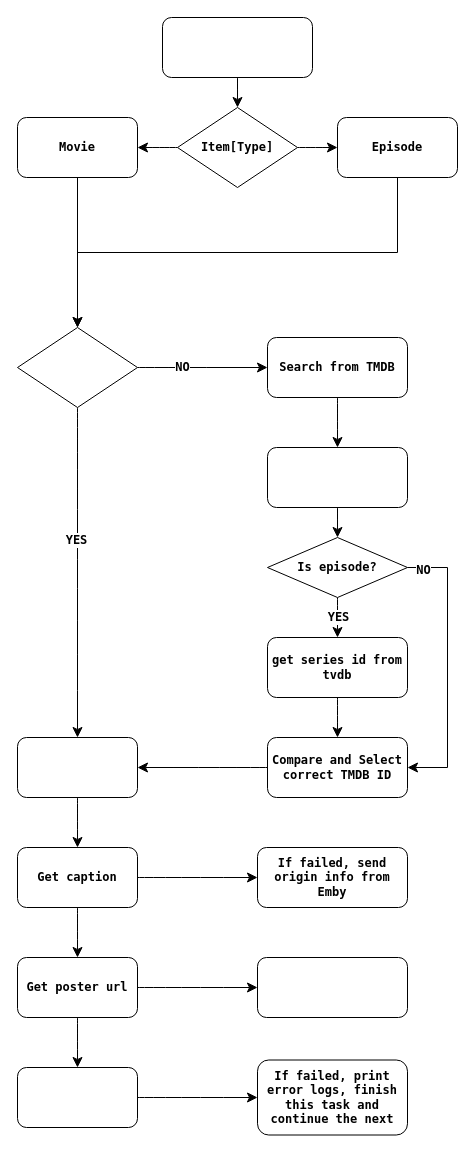
The diagram is 475 pixels wide and 1153 high, and some of its shapes have lost their labels. Each missing label, with the box of its shape:
Get external IDs from TMDB(tvdb_id, imdb_id: (266, 446, 408, 508)
Has TMDB ID ?: (16, 326, 138, 408)
If failed, only send text message: (256, 956, 408, 1018)
query from tmdb: (16, 736, 138, 798)
receive Emby media data: (162, 16, 312, 78)
Sent to tg bot: (16, 1066, 138, 1128)
